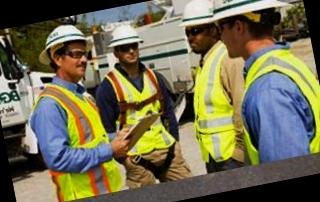helmet: (31, 16, 97, 66), (203, 0, 298, 25), (100, 17, 149, 52), (172, 0, 217, 30)
person: (8, 14, 127, 202), (202, 0, 320, 168), (87, 15, 184, 180), (162, 0, 244, 177)
